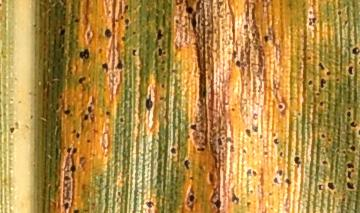tarspot: (144, 85, 154, 130), (189, 9, 198, 36), (230, 184, 240, 204), (68, 153, 78, 173), (78, 46, 91, 60), (213, 197, 222, 213), (62, 175, 72, 189), (115, 57, 124, 71), (103, 27, 113, 39), (293, 155, 302, 168), (101, 61, 110, 74), (251, 121, 260, 134), (58, 27, 68, 38), (77, 75, 88, 85), (319, 77, 327, 90), (326, 181, 336, 191), (345, 181, 356, 190), (156, 28, 163, 41), (184, 6, 194, 15), (351, 46, 360, 56), (317, 61, 326, 71), (272, 175, 281, 185), (307, 17, 317, 26), (183, 159, 191, 170), (244, 127, 252, 138), (62, 202, 70, 213), (317, 182, 325, 193), (346, 169, 353, 181), (156, 44, 163, 56), (122, 3, 129, 15), (245, 168, 252, 180), (345, 162, 355, 170), (234, 59, 242, 69), (144, 200, 154, 208), (347, 65, 354, 76), (61, 108, 72, 115), (195, 146, 206, 153), (224, 136, 235, 143), (169, 146, 177, 155), (189, 122, 197, 131), (284, 177, 292, 186), (275, 168, 283, 177), (262, 34, 270, 43), (251, 112, 259, 121), (188, 193, 195, 203), (349, 143, 356, 153), (131, 48, 138, 58), (82, 113, 90, 121), (349, 120, 357, 128), (272, 137, 280, 145), (345, 110, 352, 119), (8, 126, 15, 135), (65, 146, 72, 155), (228, 144, 235, 153), (248, 188, 255, 197), (242, 22, 249, 31), (276, 103, 284, 110), (321, 159, 329, 166), (86, 105, 93, 113), (319, 132, 327, 139), (336, 9, 343, 17), (123, 18, 131, 25), (71, 146, 78, 154), (240, 147, 247, 155), (262, 150, 270, 157), (216, 137, 222, 146), (75, 130, 80, 140), (118, 116, 125, 123), (277, 150, 284, 157), (130, 30, 137, 37), (73, 17, 80, 24), (120, 35, 126, 43), (158, 95, 166, 101), (244, 201, 252, 207), (174, 18, 180, 26), (318, 100, 324, 107), (307, 79, 313, 86), (123, 24, 130, 30), (57, 93, 63, 100), (160, 82, 166, 89), (251, 169, 257, 176), (104, 110, 110, 116), (325, 70, 331, 76), (334, 77, 340, 83), (72, 209, 80, 213), (85, 138, 90, 144), (357, 128, 360, 136)
